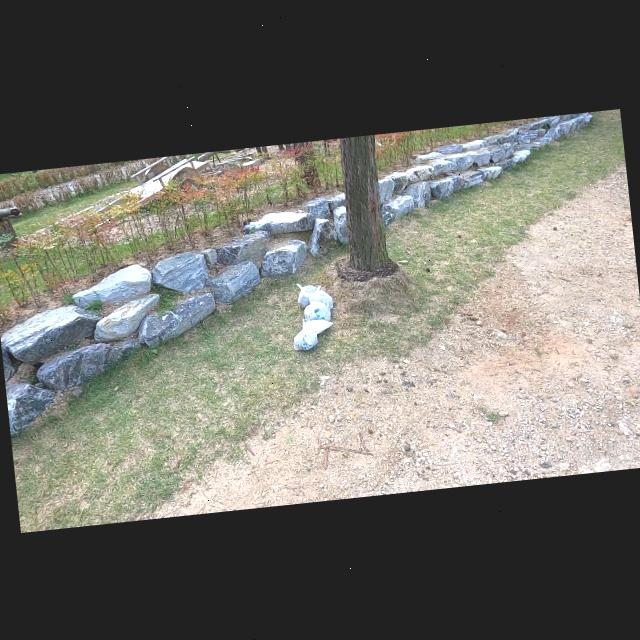trash: (300, 314, 336, 338), (294, 278, 322, 308), (302, 297, 332, 324), (291, 324, 319, 352), (305, 286, 334, 310)
